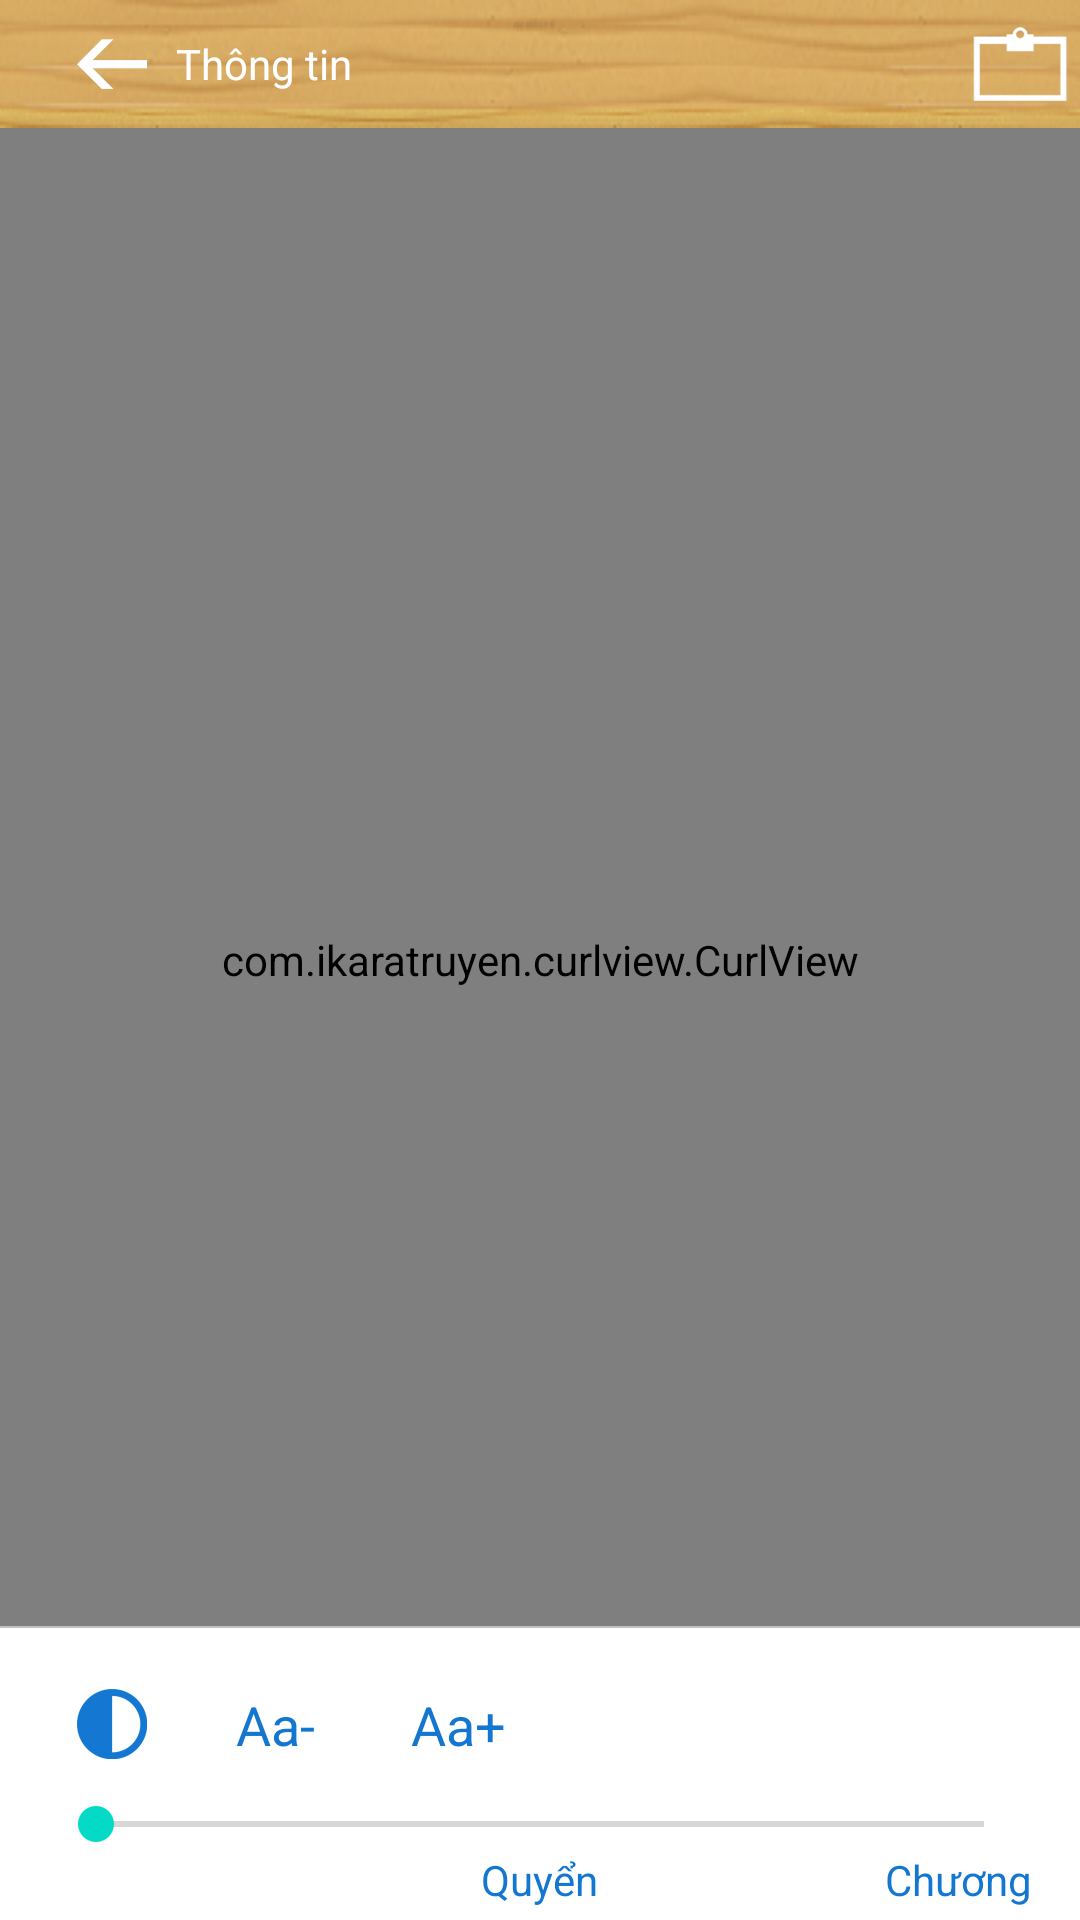

Where to tap for icons on this 1080 × 1920 app screen, as [x,y]:
contrast: [112,1724]
